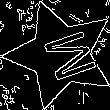M_W: (27, 24, 93, 85)
